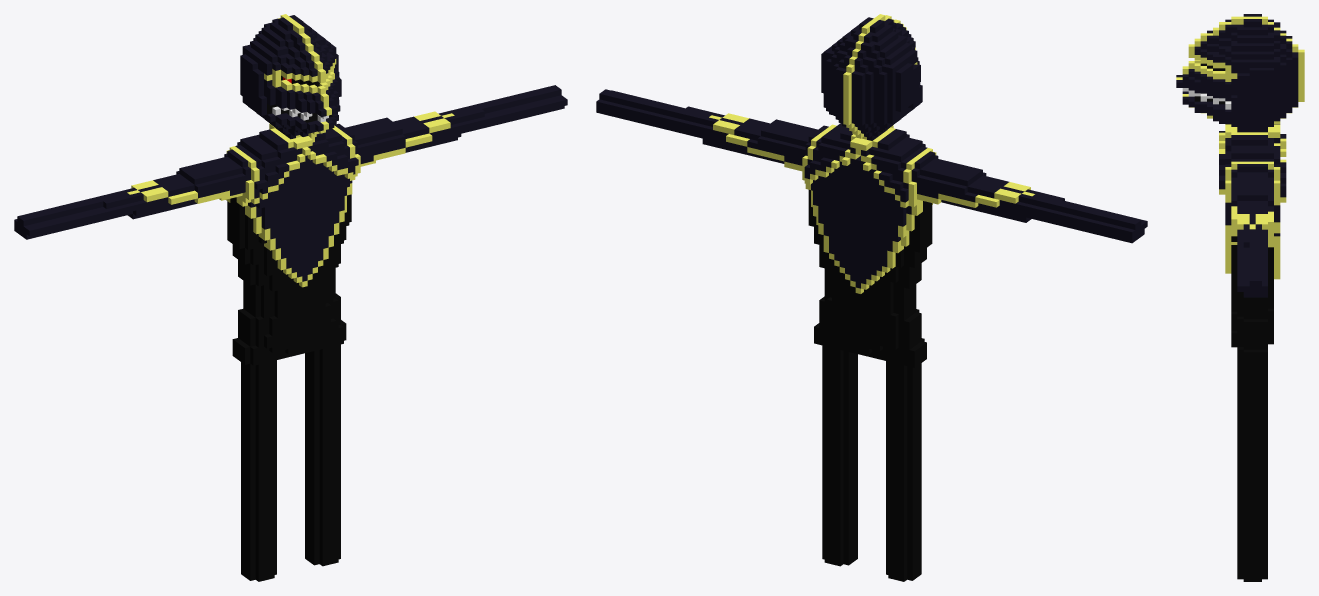
3 renders of one model, left to right at view 1: azimuth 30°, elevation 25°; view 2: azimuth 150°, elevation 25°; view 3: azimuth 270°, elevation 25°, orthographic.
Visible parts, largest first — view 1: Test; view 2: Test; view 3: Test.
Part boxes in pixels (<box>): Test: <box>14,14,567,581</box>; Test: <box>596,14,1147,581</box>; Test: <box>1176,14,1304,581</box>.
Bounding box in the file's own units: 101 × 21 × 98.
